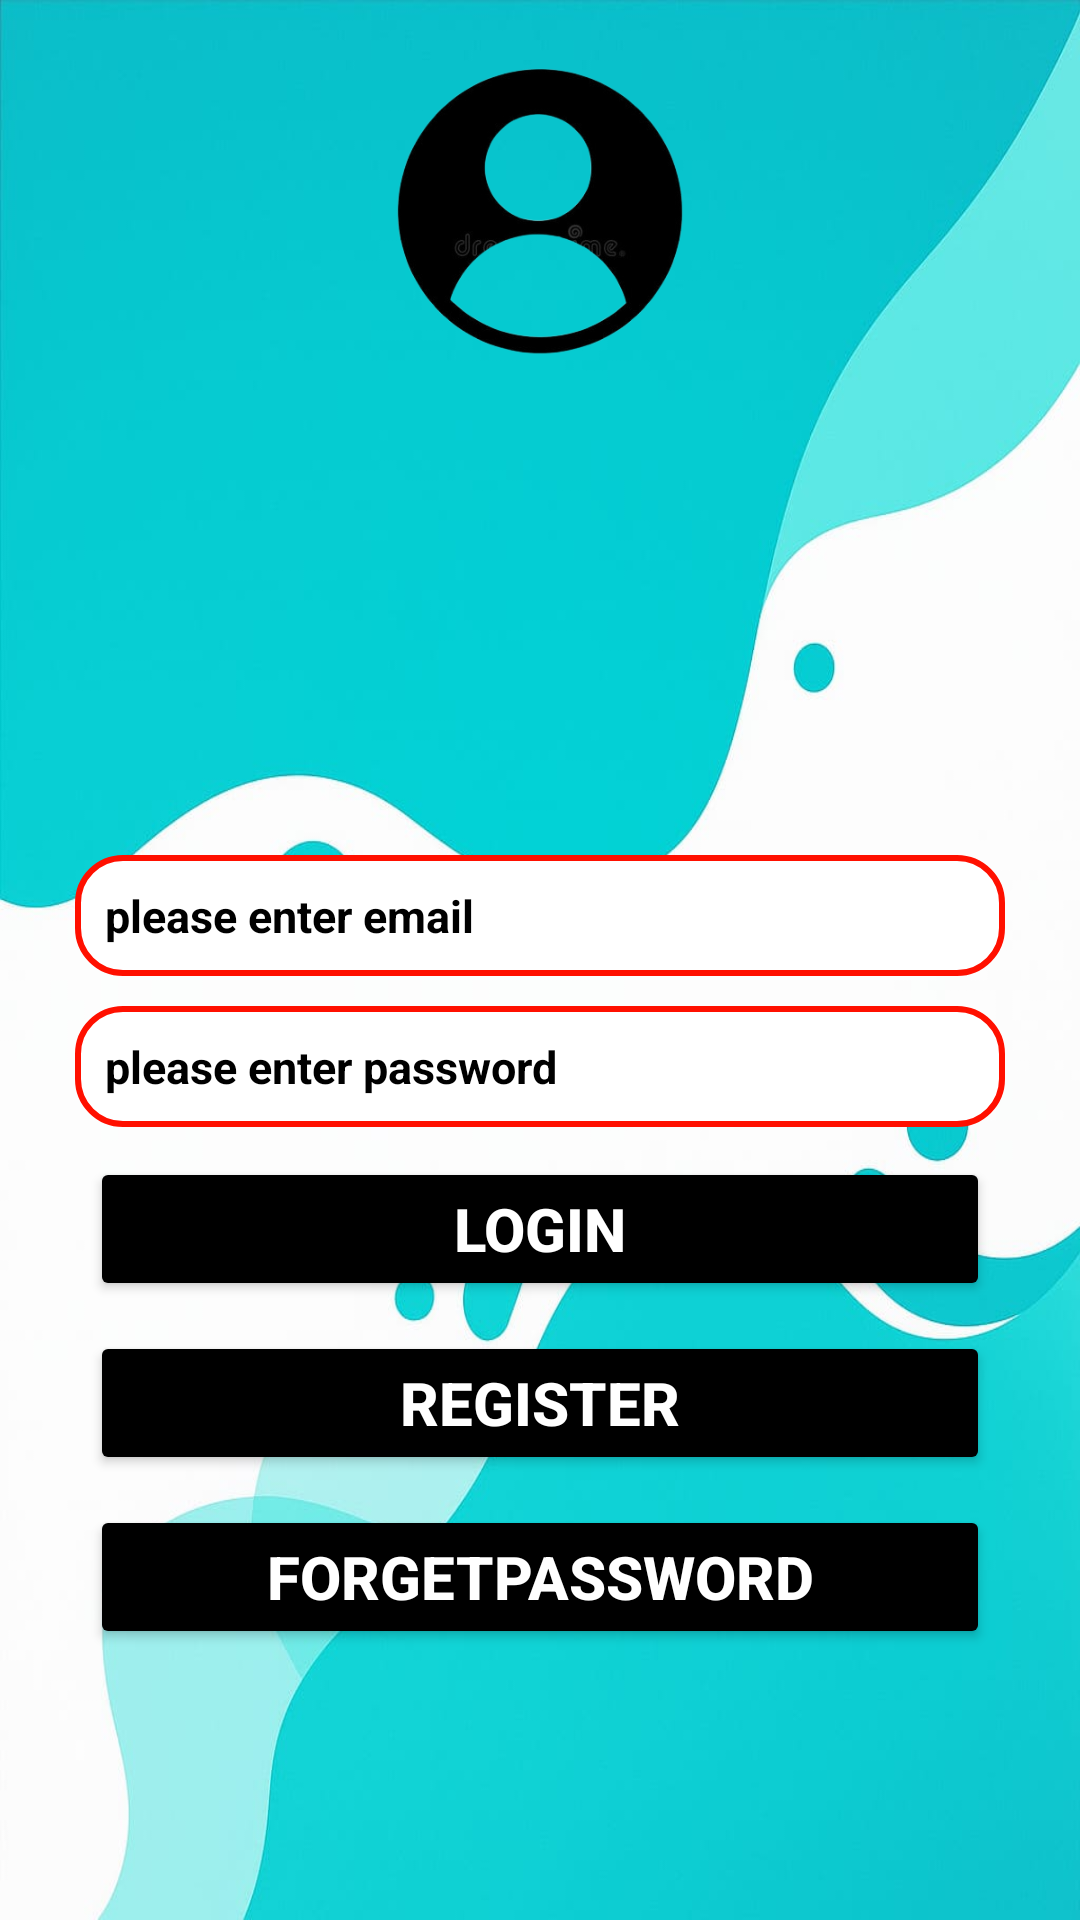

Icon click points for this 1080x1920 phone screenshot, format (x=x, y=y):
pers: (x=540, y=211)
